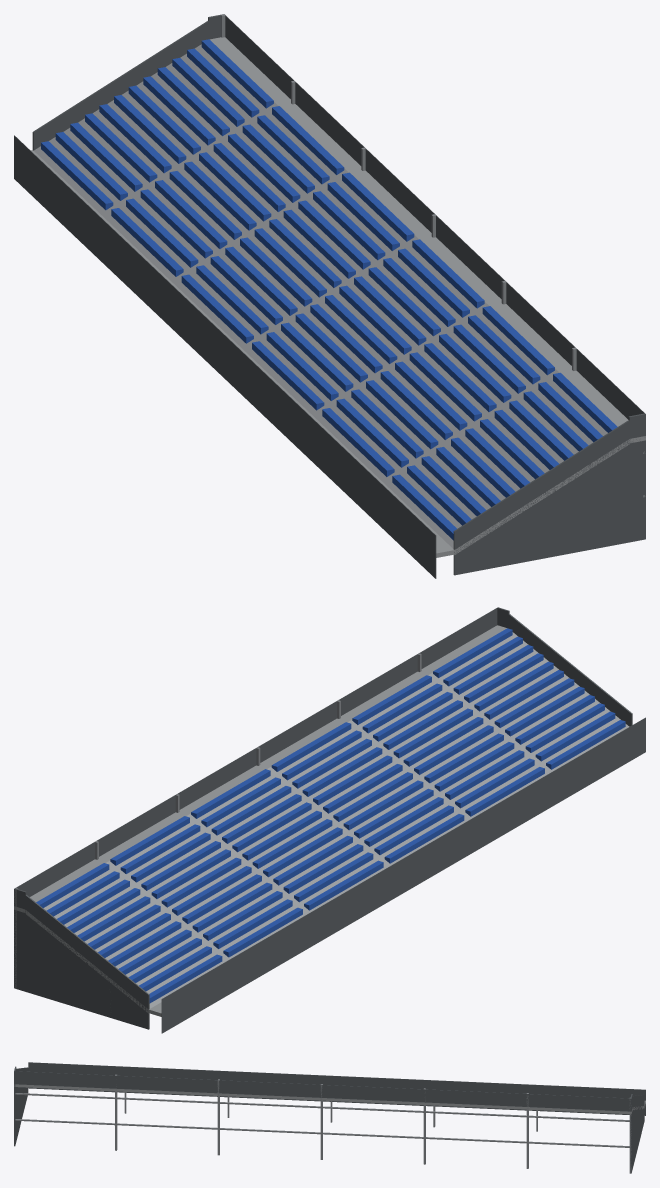
The model's file is mza_stand_lat_parabolica_b.glb.
The picture shows the model from 3 angles, top to bottom: view 1: azimuth 30°, elevation 25°; view 2: azimuth 150°, elevation 25°; view 3: azimuth 270°, elevation 25°; orthographic projection. The views are drawn at different scales.
Parts seen in each view (by area): view 1: monza-lat-parabolica-b; view 2: monza-lat-parabolica-b; view 3: monza-lat-parabolica-b.
Part boxes in pixels (box(x1,y1,x2,y2)): monza-lat-parabolica-b: box(14, 14, 645, 578); monza-lat-parabolica-b: box(14, 607, 645, 1033); monza-lat-parabolica-b: box(14, 1062, 645, 1173).
Bounding box in the file's own units: 16.89 × 6.92 × 52.82.
